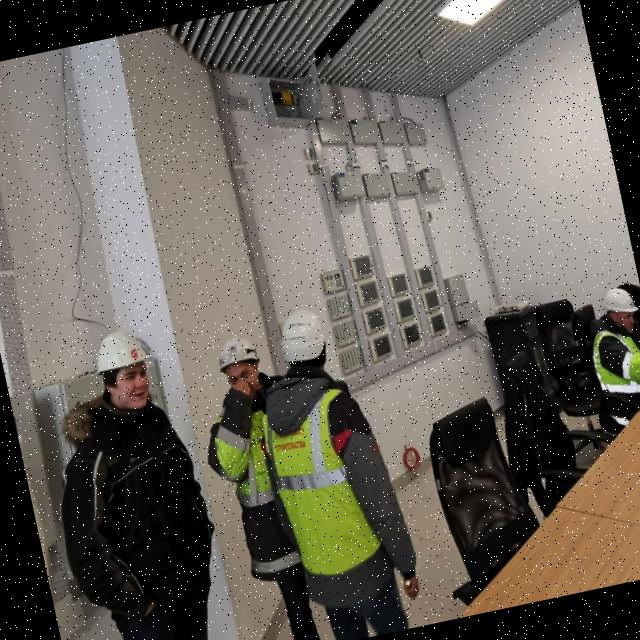Helmet: (90, 329, 158, 398), (274, 307, 336, 373), (214, 332, 264, 382), (601, 285, 640, 325)
Jacket: (257, 360, 388, 592), (206, 374, 299, 568), (588, 319, 640, 400)
NoJacket: (65, 382, 222, 625)
